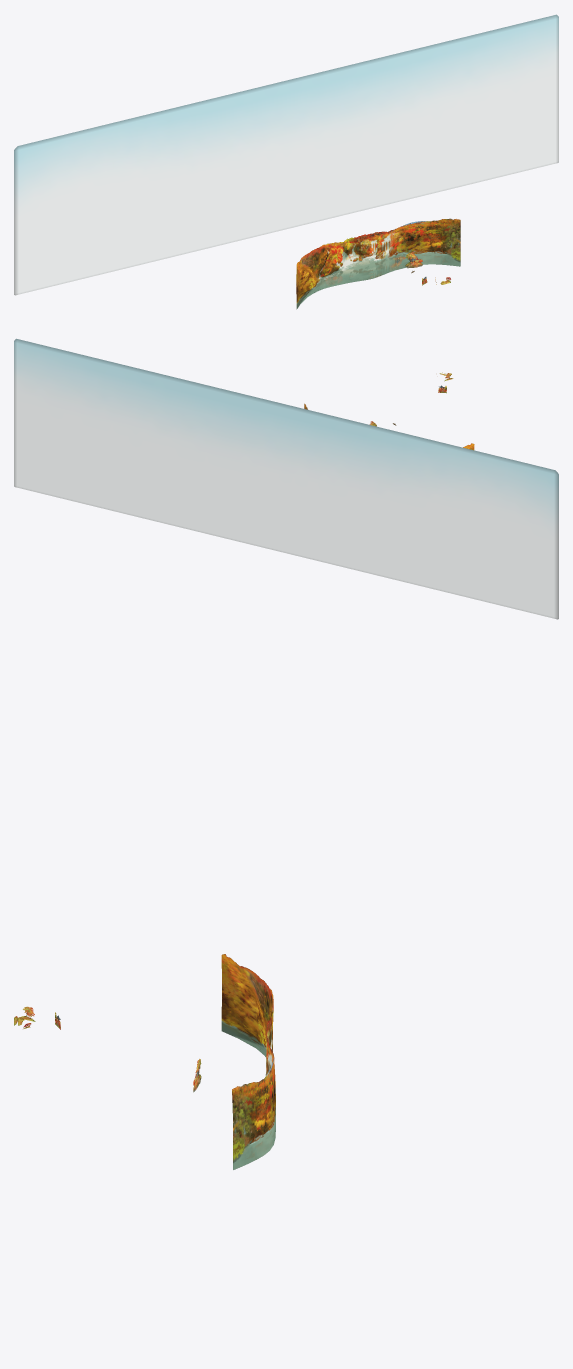
The model's file is sub_scene_right.glb.
3 renders of one model, top to bottom at view 1: azimuth 30°, elevation 25°; view 2: azimuth 150°, elevation 25°; view 3: azimuth 270°, elevation 25°, orthographic. The views are drawn at different scales.
Parts seen in each view (by area): view 1: 背景衬布, 山谷; view 2: 背景衬布; view 3: 山谷.
Boxes of the visible parts, bbox=[...] form: 背景衬布: bbox=[14, 14, 558, 295]; 山谷: bbox=[296, 218, 460, 309]; 背景衬布: bbox=[14, 338, 558, 619]; 山谷: bbox=[221, 954, 275, 1169].
Size of the model in its own units: 35.64 by 9.3 by 18.12.
1 material, 1 textured.
